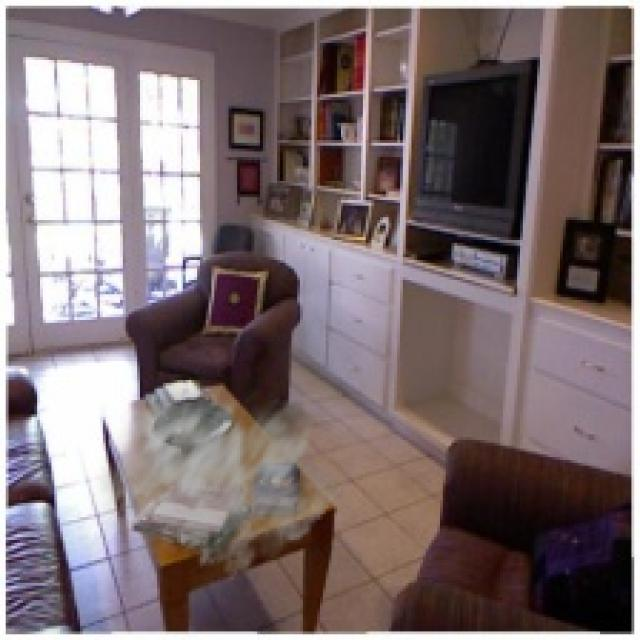smoke: (89, 354, 348, 583)
